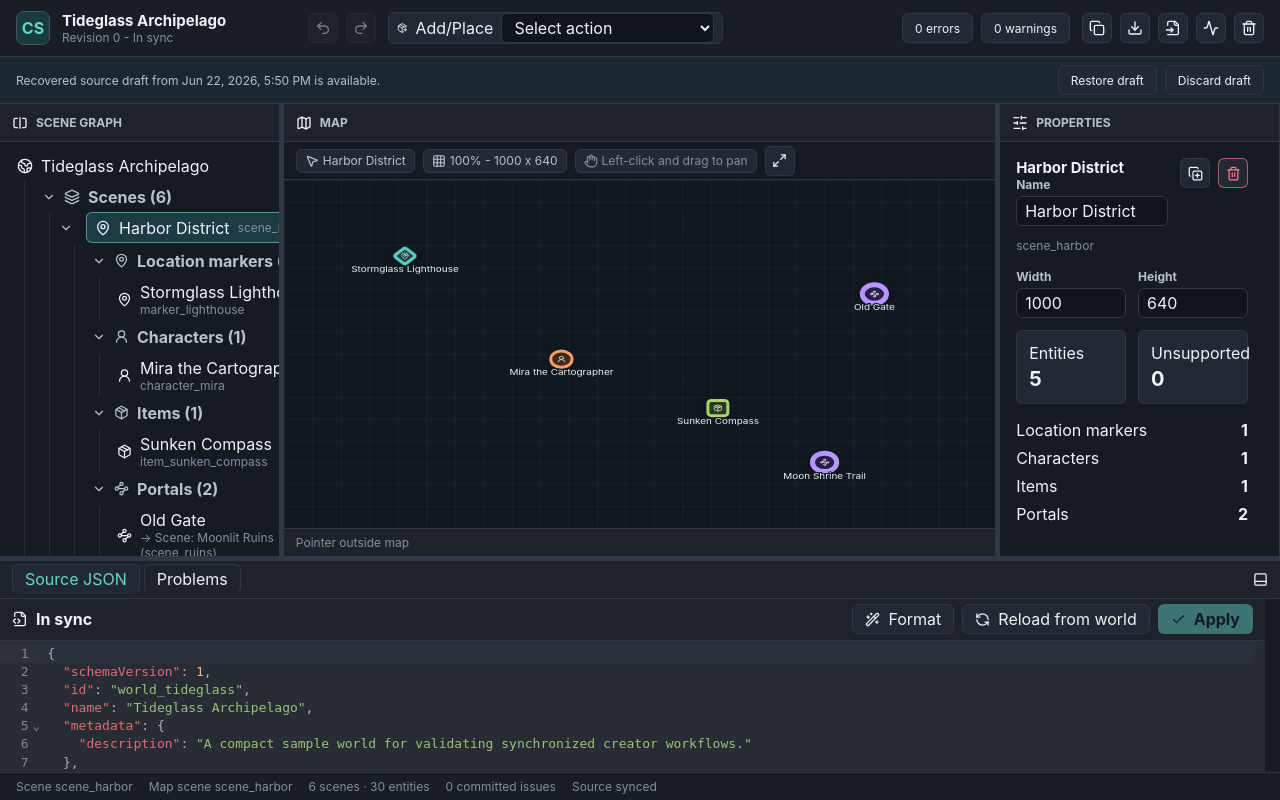
rendered surface equivalence classes › offers source draft recovery without applying it to the committed world
Check: the text "Recovered source draft from" is shown, box top-left (16, 72), bottom-right (182, 88)
Click the button "Restore draft".
click(1107, 80)  # box top-left (1058, 65), bottom-right (1157, 95)
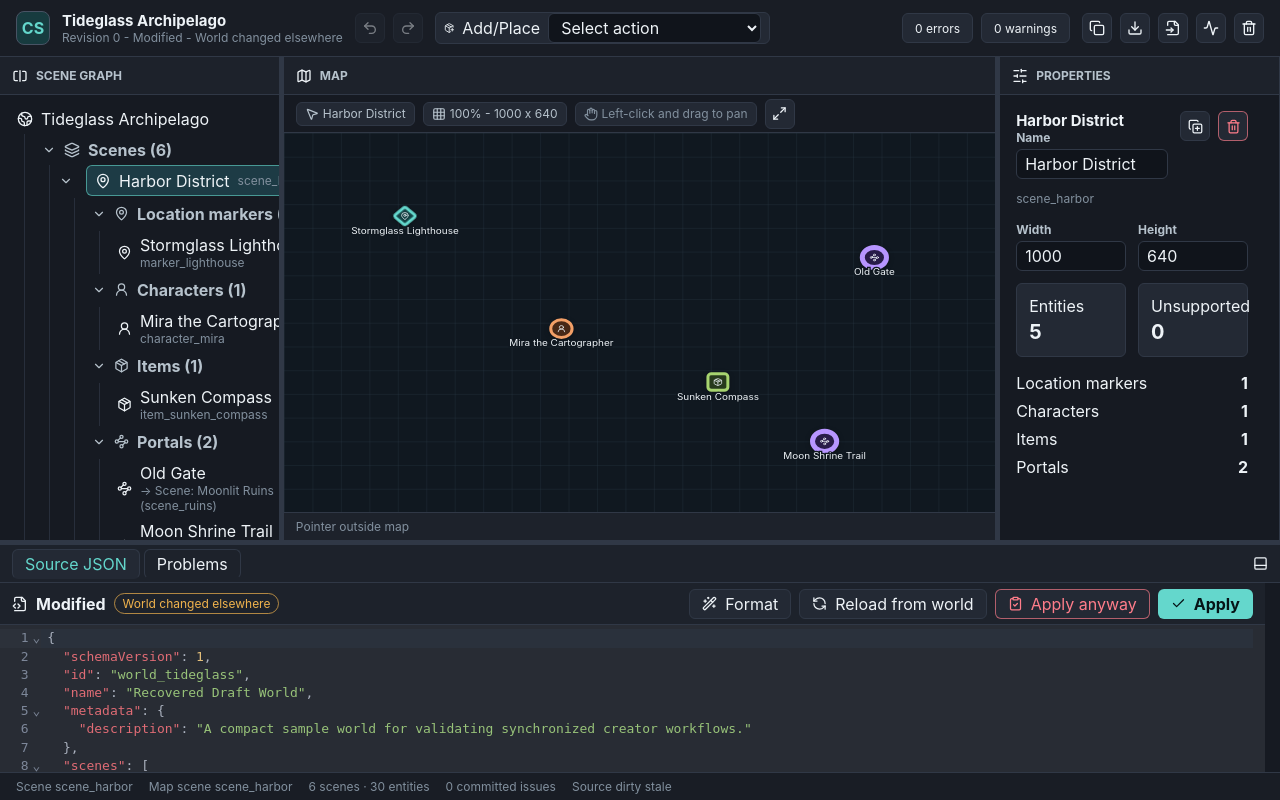
Check: the text "Recovered source draft from" is gone
